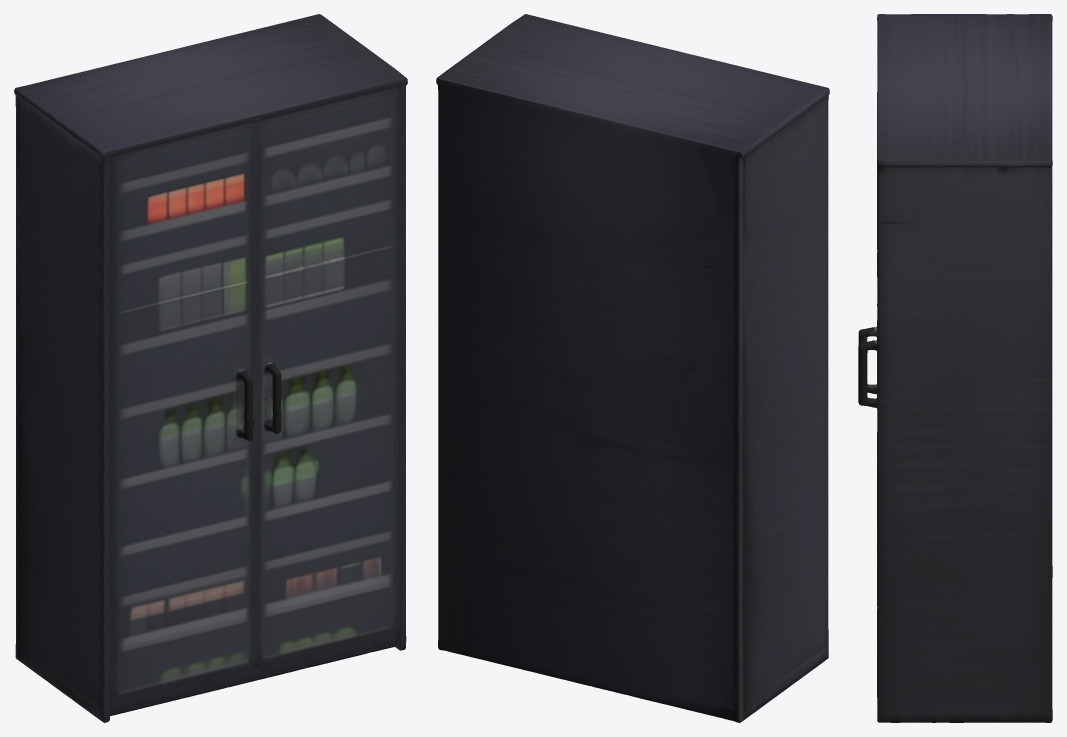
File: L_WARDROBE.cyberpunk.glb
The picture shows the model from 3 angles, left to right: view 1: azimuth 30°, elevation 25°; view 2: azimuth 150°, elevation 25°; view 3: azimuth 270°, elevation 25°; orthographic projection.
Parts seen in each view (by area): view 1: geometry_0; view 2: geometry_0; view 3: geometry_0.
Part boxes in pixels (bbox=[...]): geometry_0: bbox=[14, 14, 407, 722]; geometry_0: bbox=[436, 14, 829, 722]; geometry_0: bbox=[858, 14, 1052, 722].
Bounding box in the file's own units: 1.8 × 3.21 × 1.
1 material, 1 textured.
